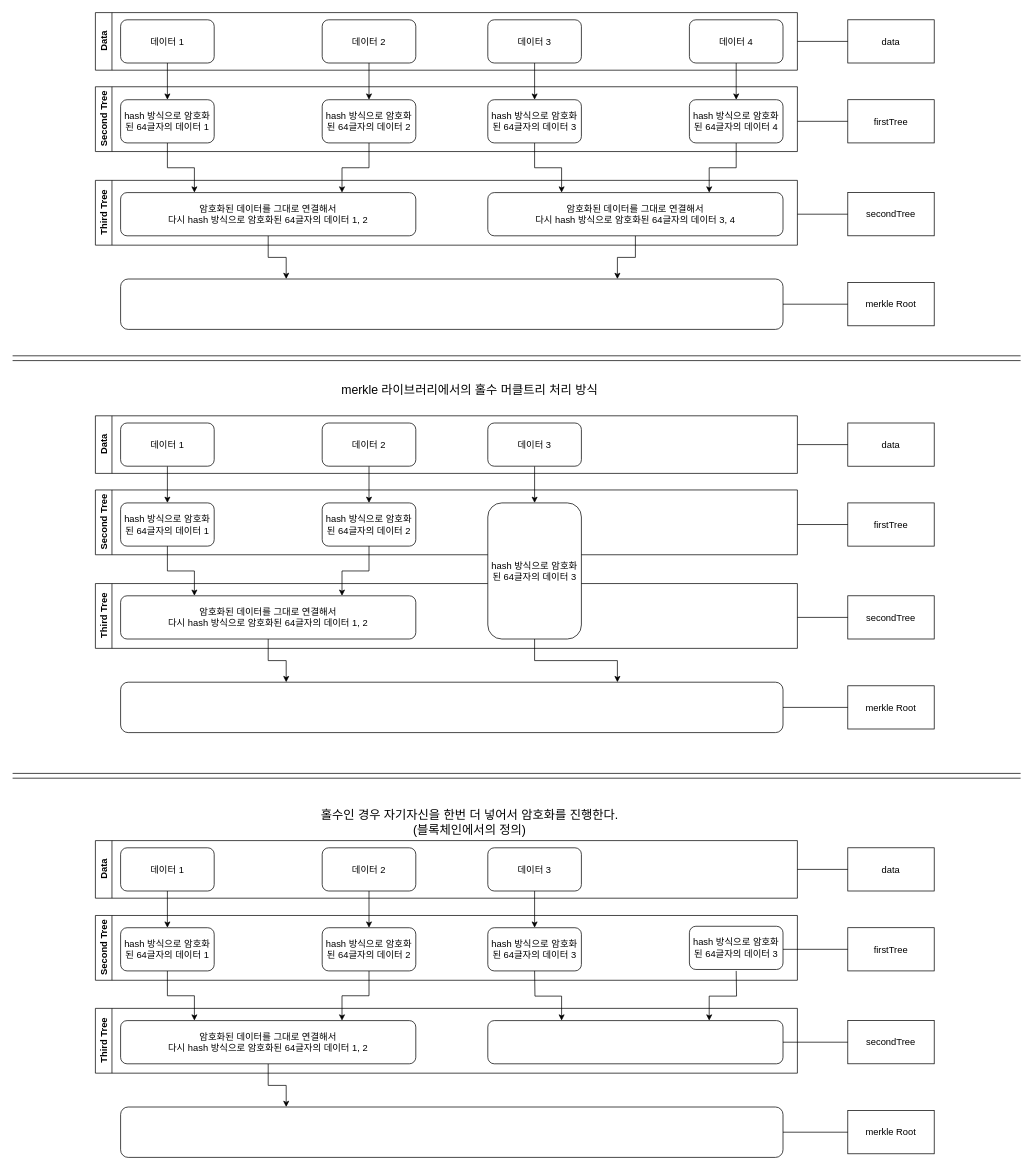
Image size: 1033x1170. Some labels were removed from this diagram. Here are the shapes that lost their labels. From the top down, the centre of each, then its label:
point (451, 303): 암호화된 데이터를 그대로 연결해서 다시 hash 방식으로 암호화된 64글자의 데이터 1, 2, 3, 4
point (451, 707): 암호화된 데이터를 그대로 연결해서 다시 hash 방식으로 암호화된 64글자의 데이터 1, 2, 3
point (635, 1042): 암호화된 데이터를 그대로 연결해서 다시 hash 방식으로 암호화된 64글자의 데이터 3, 3
point (451, 1131): 암호화된 데이터를 그대로 연결해서 다시 hash 방식으로 암호화된 64글자의 데이터 1, 2, 3, 3
